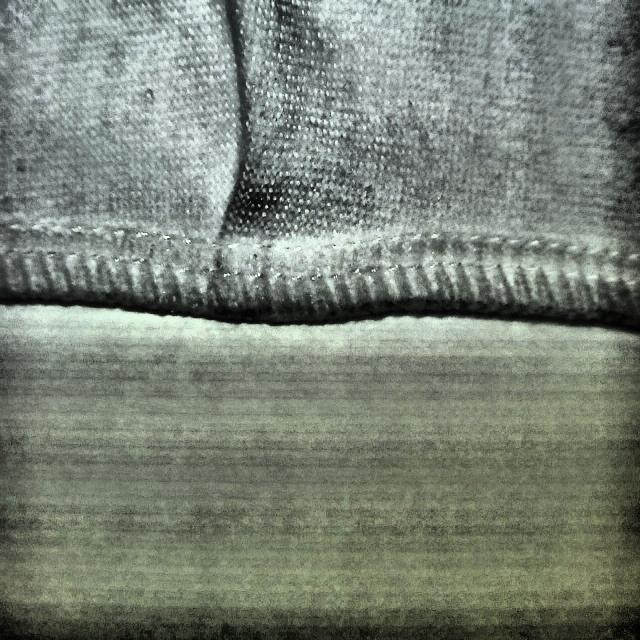gray stitch: (175, 63, 312, 325)
